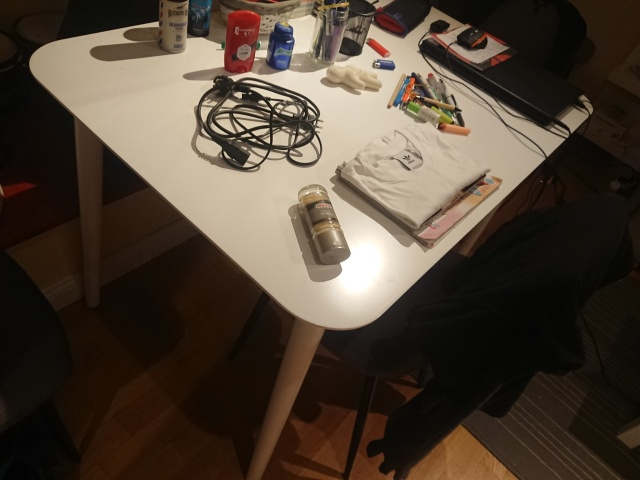Kotanyi Garlic Granules 70g: (297, 183, 352, 267)
